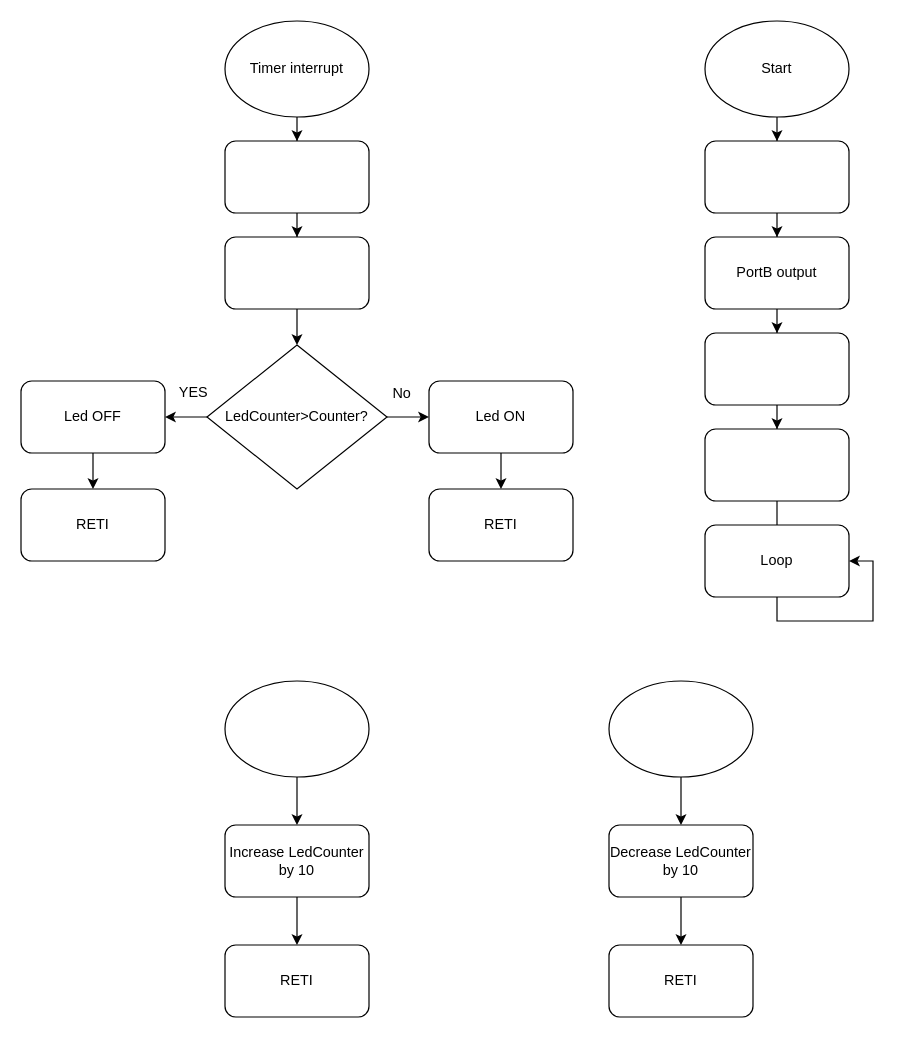
This 904x1038 diagram has some shape labels left out. The centre of each missing label's shape, as x and y in pixels:
"INC counter" belongs at point (296, 272).
"Initialize SP" belongs at point (776, 176).
"INT1 SW1" belongs at point (296, 728).
"INT2 SW2" belongs at point (680, 728).
"Set prescaler TTCR0B to clock/1024" belongs at point (776, 368).
"Set timer to start from 205" belongs at point (296, 176).
"Set timer to start from 5" belongs at point (776, 464).
